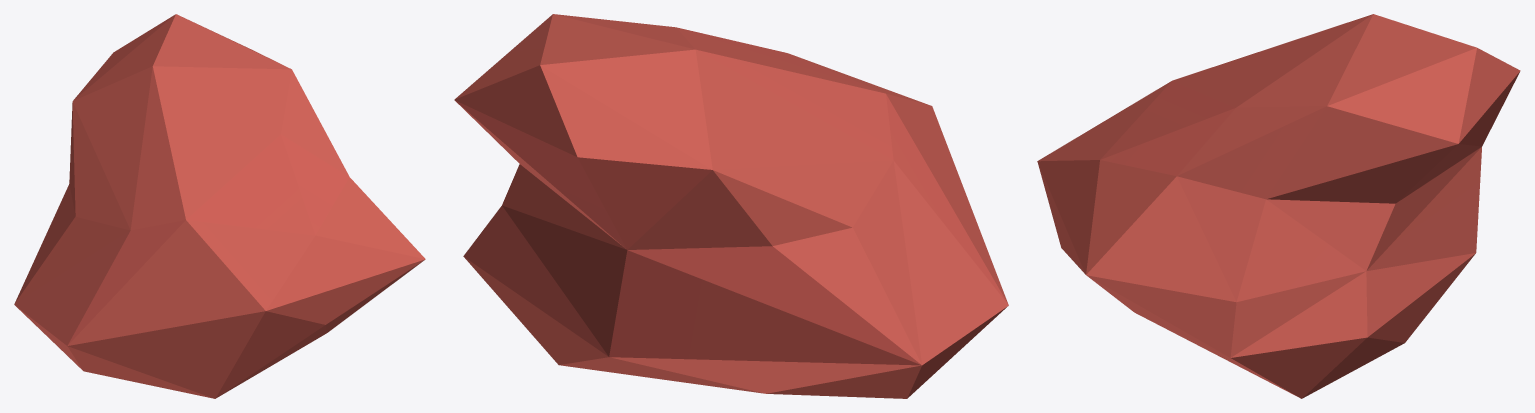
File: redrock3.fbx
The picture shows the model from 3 angles, left to right: view 1: azimuth 30°, elevation 25°; view 2: azimuth 150°, elevation 25°; view 3: azimuth 270°, elevation 25°; orthographic projection. The views are drawn at different scales.
Parts seen in each view (by area): view 1: rock.015; view 2: rock.015; view 3: rock.015.
Boxes of the visible parts, x1,y1,x2,y2 form: rock.015: [14, 14, 425, 398]; rock.015: [454, 14, 1008, 398]; rock.015: [1037, 14, 1520, 398].
Size of the model in its own units: 158 by 123 by 165.
